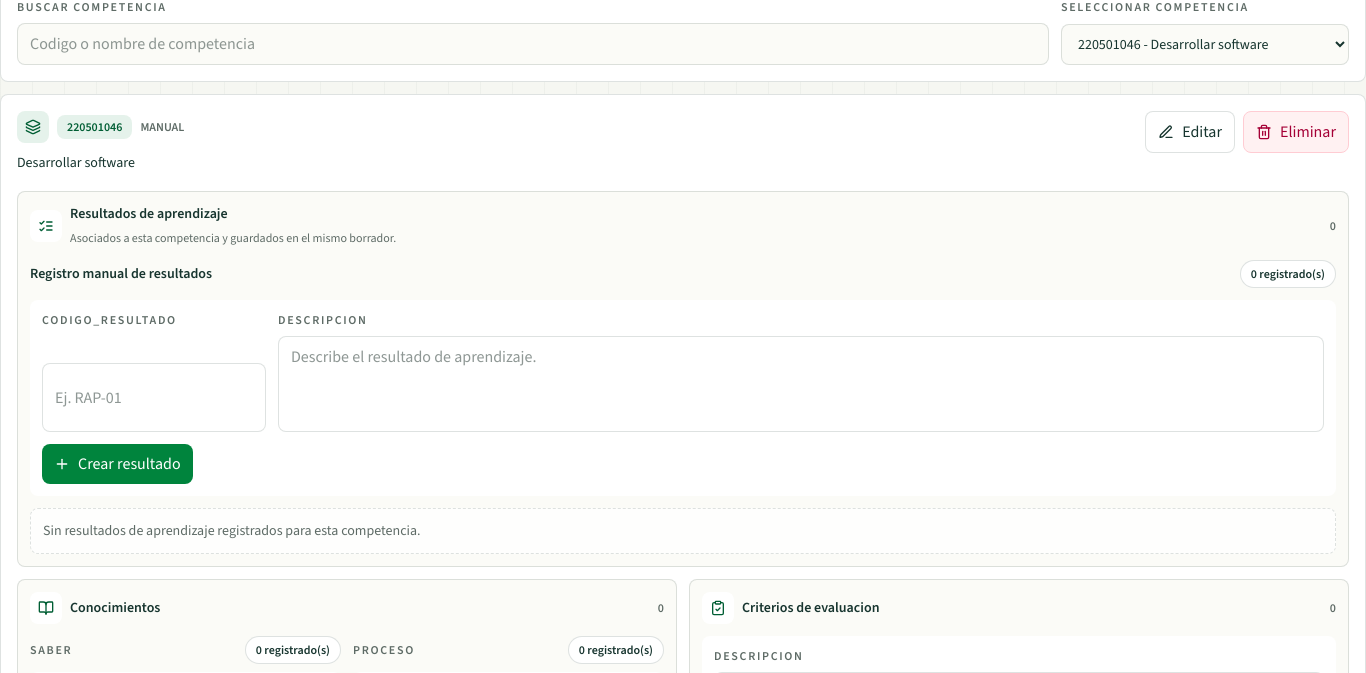
Scenario: ProgramaCompetenciasManager › should show API errors such as duplicate learning outcomes
The width and height of the screenshot is (1366, 673).
(page scrolled)
Check: the heading "Resultados de aprendizaje" is shown, box [70, 204, 228, 223]
In the text box with placeholder "Describe el resultado de aprendizaje." below "codigo_resultado": (801, 384) [278, 336, 1324, 432], type "Analizar requisitos"
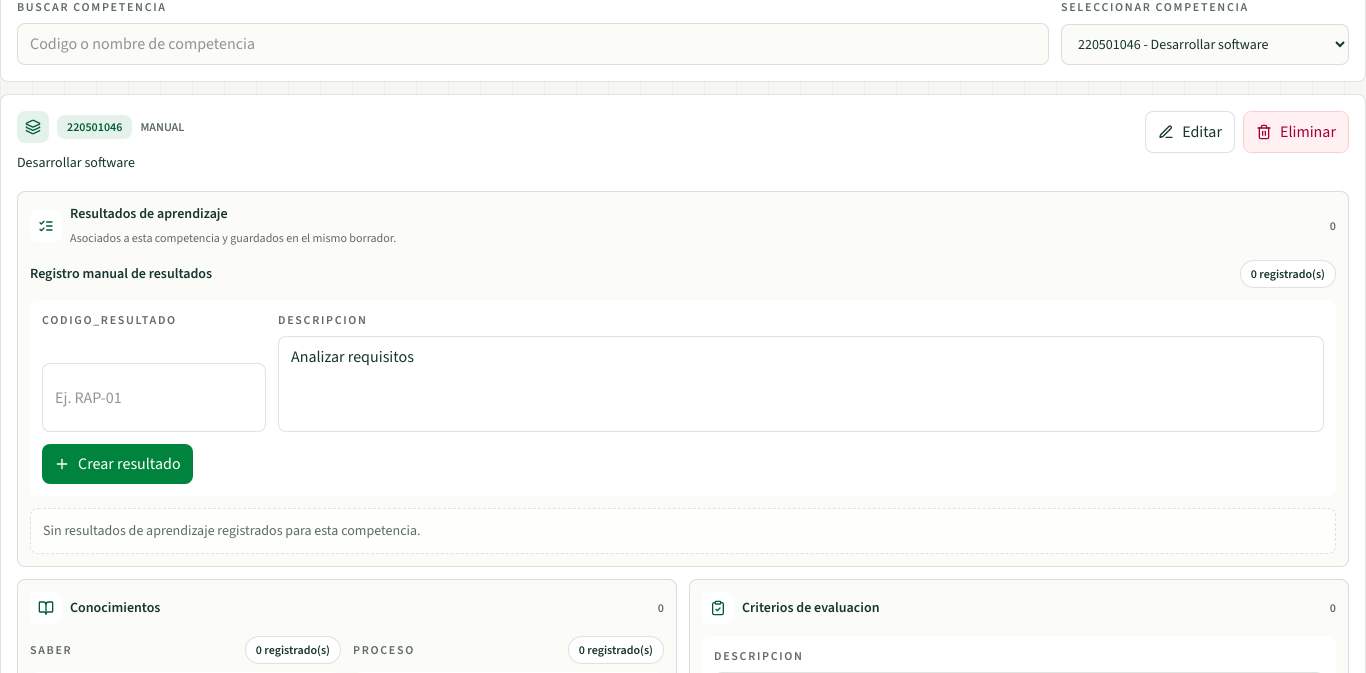
Submit the form "codigo_resultado descripcion Crear resultado", box [30, 300, 1336, 496]
(page scrolled)
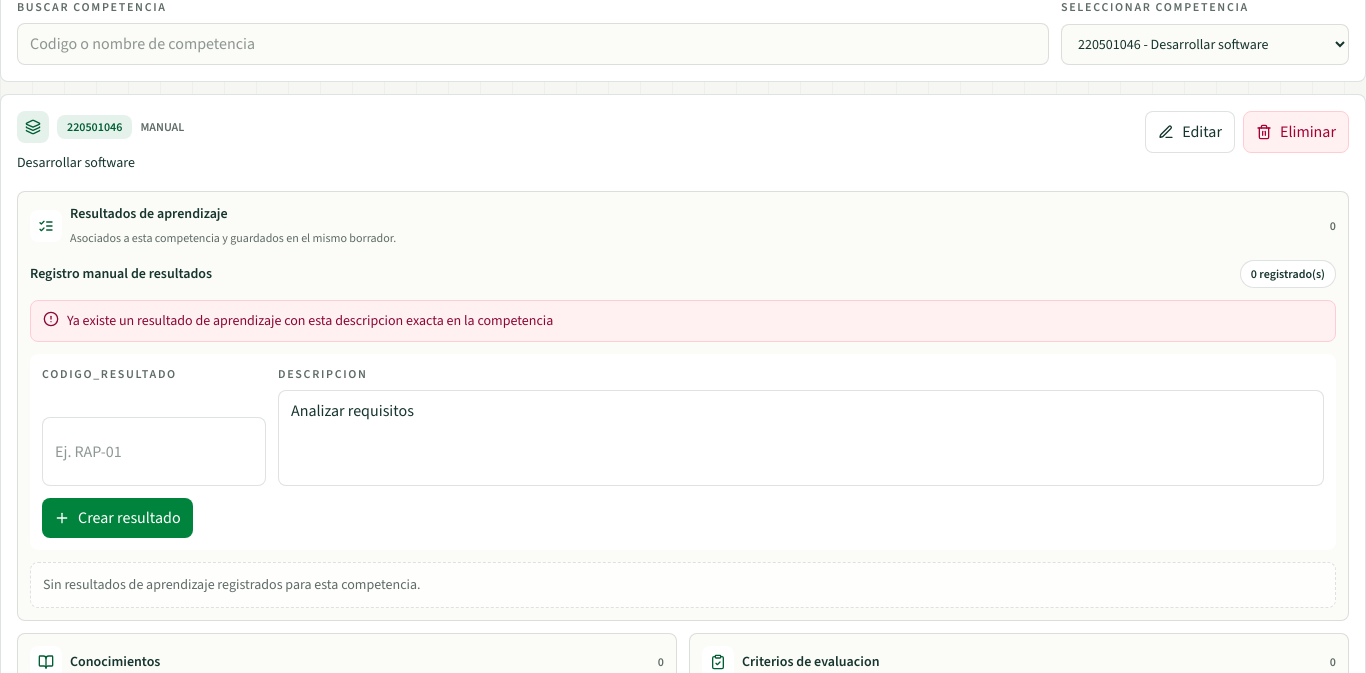
Check: the text "Ya existe un resultado de aprendizaje con esta descripcion exacta en la competencia" is shown, box [67, 311, 553, 330]
